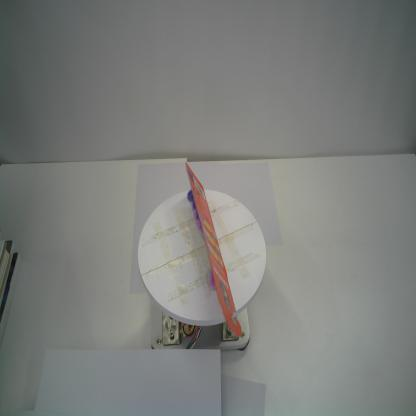Personal Hygiene: (184, 162, 243, 338)
